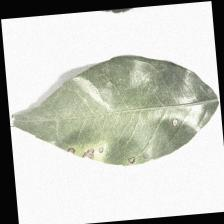canker: (55, 122, 140, 168)
